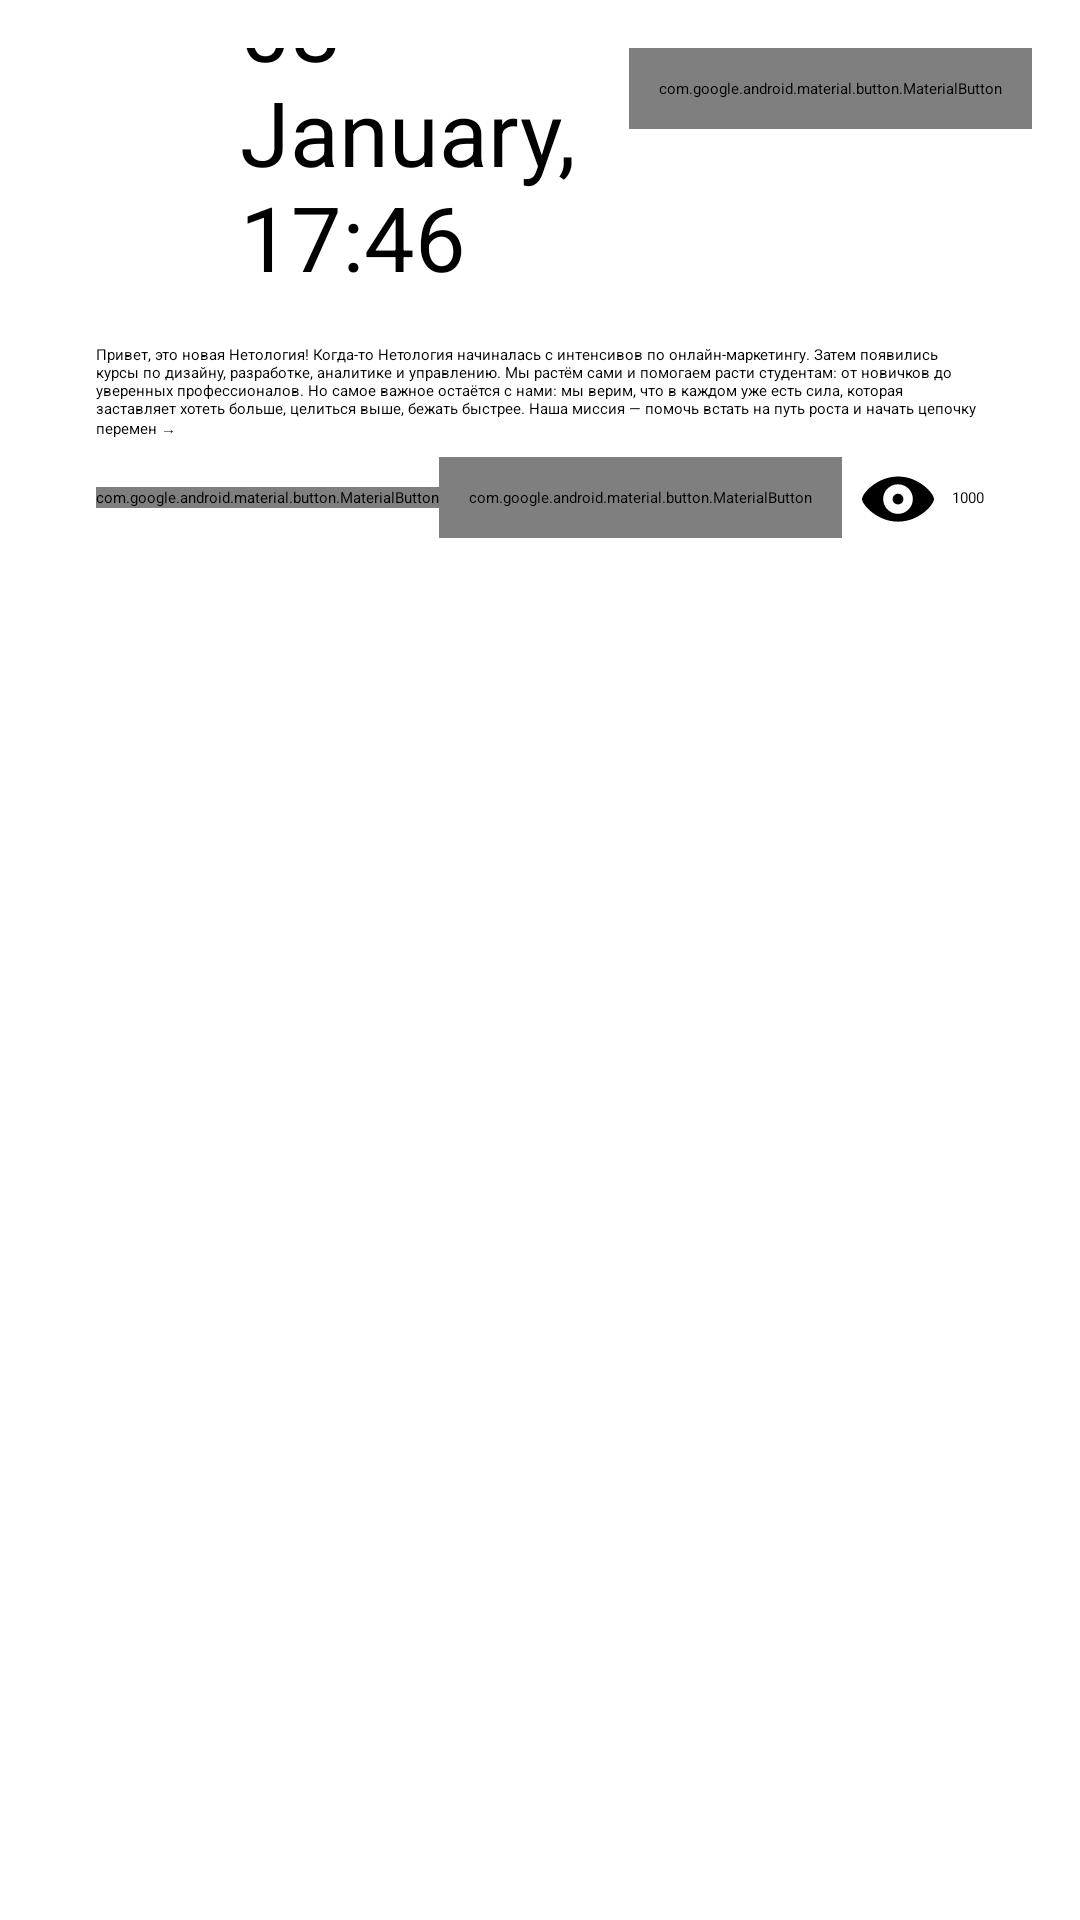

Icon click points for this 1080×1920 phone screenshot, format (x=x, y=y):
Views: (x=898, y=499)
